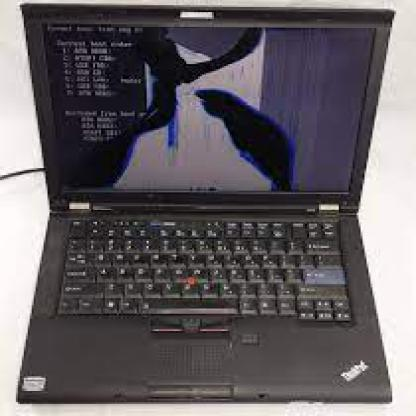crack: (83, 30, 264, 192), (198, 87, 301, 187)
